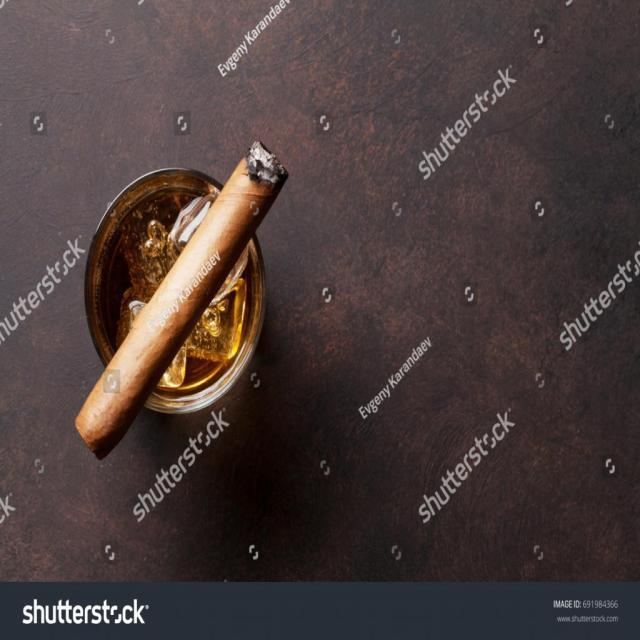smoking: (59, 136, 299, 464)
